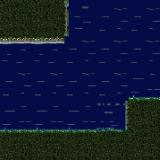Interaction: (0, 122, 114, 143), (114, 91, 160, 114), (114, 114, 131, 143)
Slow: (70, 0, 122, 127), (0, 44, 68, 128), (125, 0, 160, 95)
